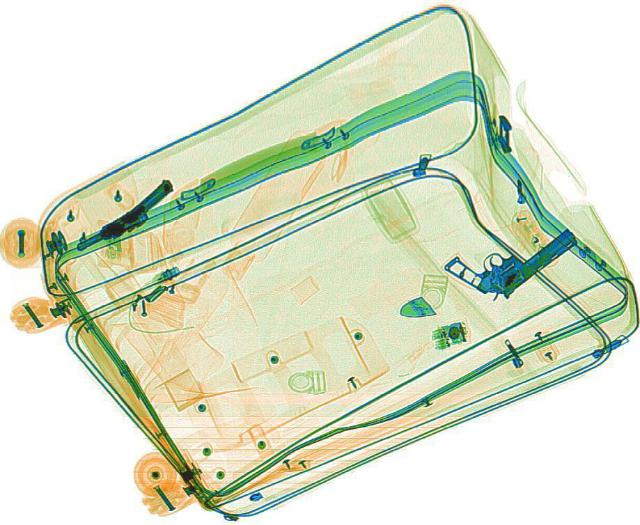Gun: (439, 198, 583, 305), (60, 178, 188, 254)
